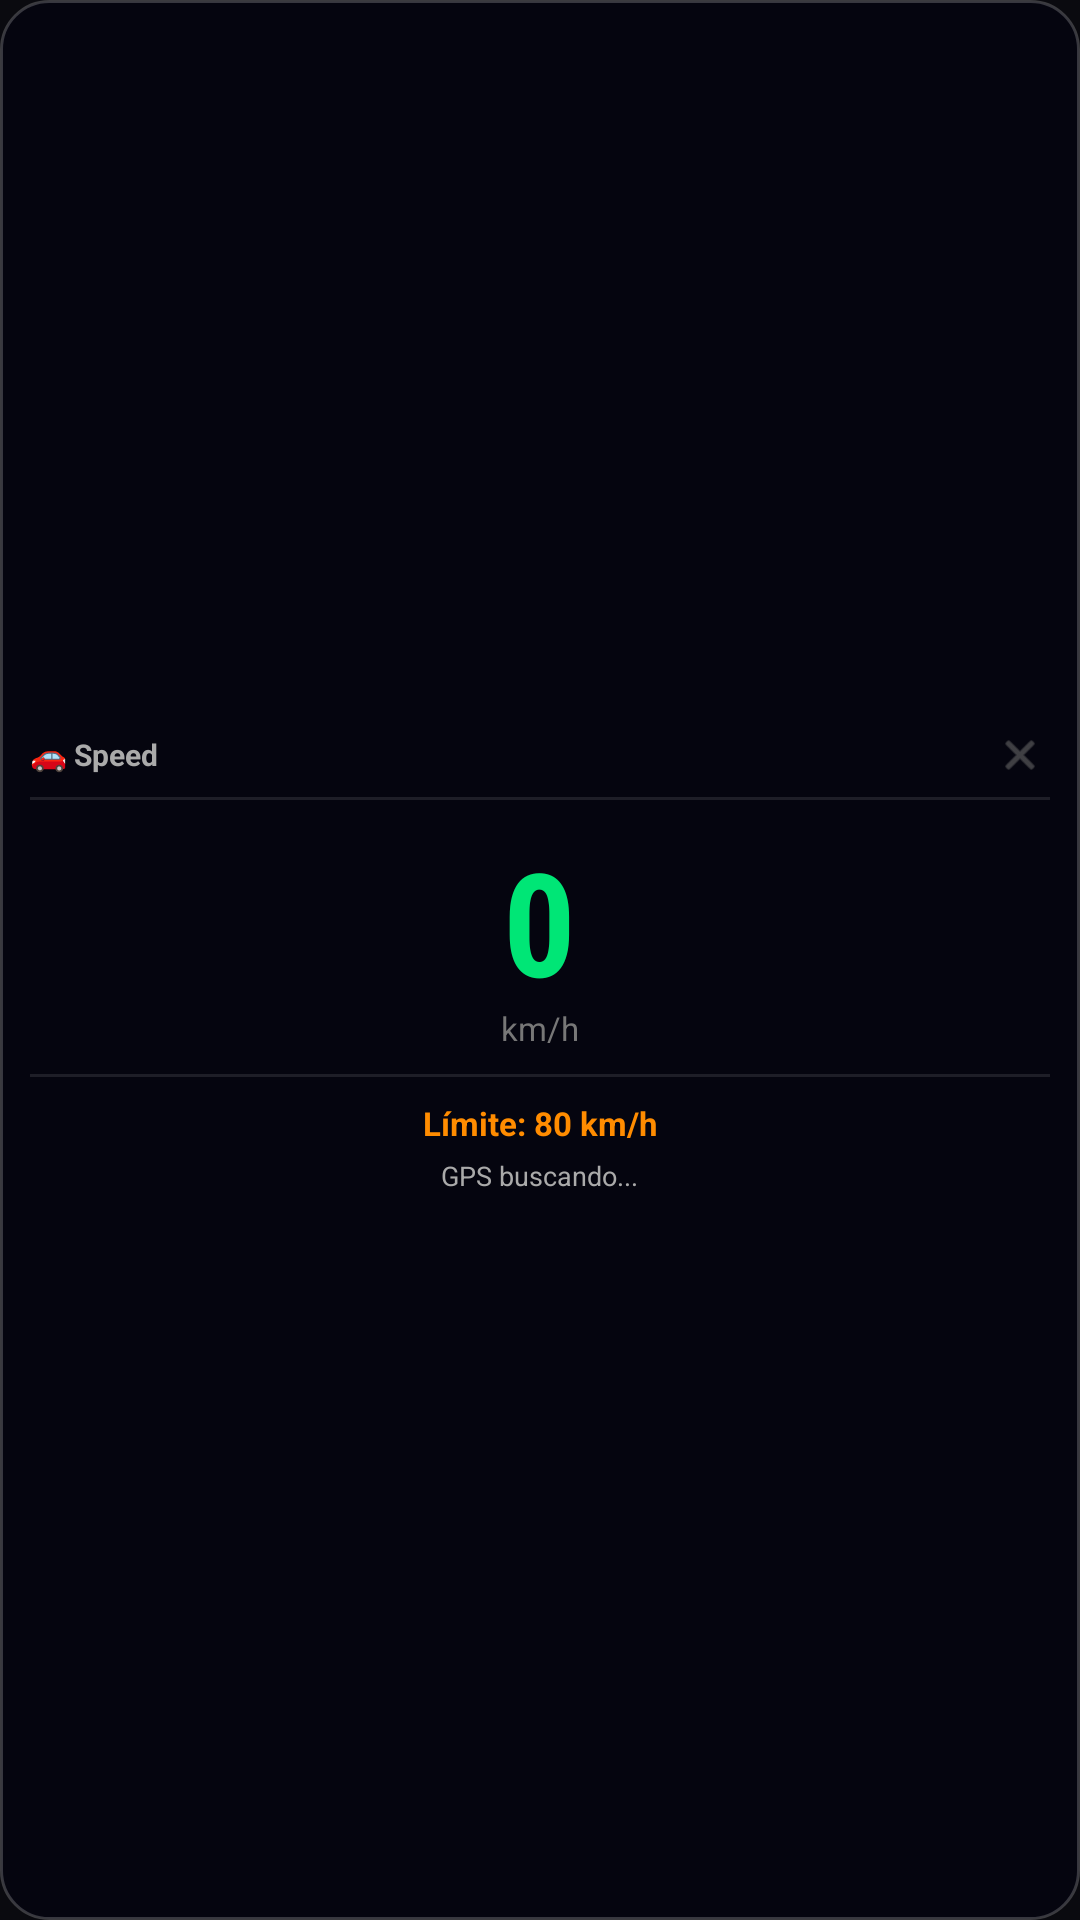

Where to tap for icons on this 1080 × 1920 app screen, as [x,y]:
close clear cancel: [1020,755]
